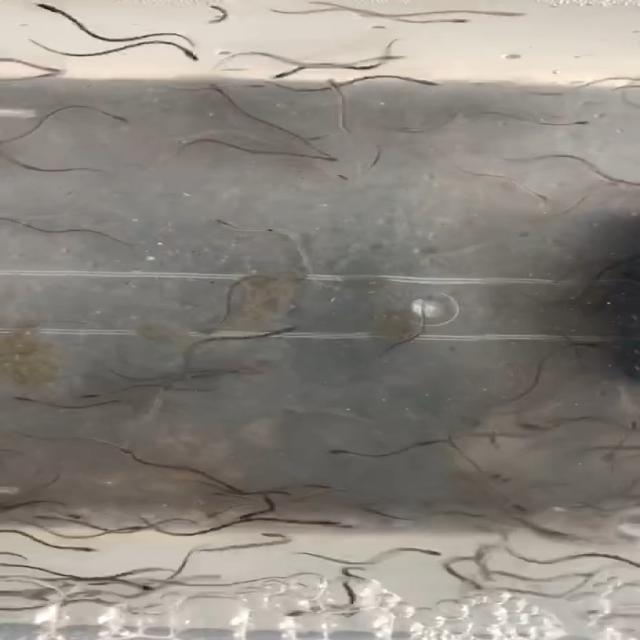active_glass_eel: (281, 604, 332, 619), (26, 0, 64, 16), (556, 114, 594, 130), (195, 79, 227, 98), (216, 216, 249, 233), (232, 79, 269, 94), (21, 71, 64, 83), (318, 76, 347, 93), (404, 77, 444, 89), (458, 576, 486, 593), (403, 547, 446, 558), (363, 52, 405, 63), (326, 444, 359, 457), (507, 499, 532, 516), (272, 65, 302, 79), (272, 325, 302, 339), (322, 518, 357, 530), (529, 189, 555, 205), (306, 479, 337, 492), (28, 64, 68, 74), (107, 114, 135, 128), (572, 338, 604, 350), (57, 508, 84, 522), (326, 171, 356, 183), (76, 390, 106, 402), (128, 582, 157, 594), (234, 508, 263, 520), (486, 8, 524, 17), (489, 433, 508, 451), (62, 546, 100, 555), (306, 133, 335, 144), (115, 523, 146, 533), (180, 51, 202, 65), (10, 394, 40, 404), (308, 155, 338, 164), (441, 16, 470, 24)
